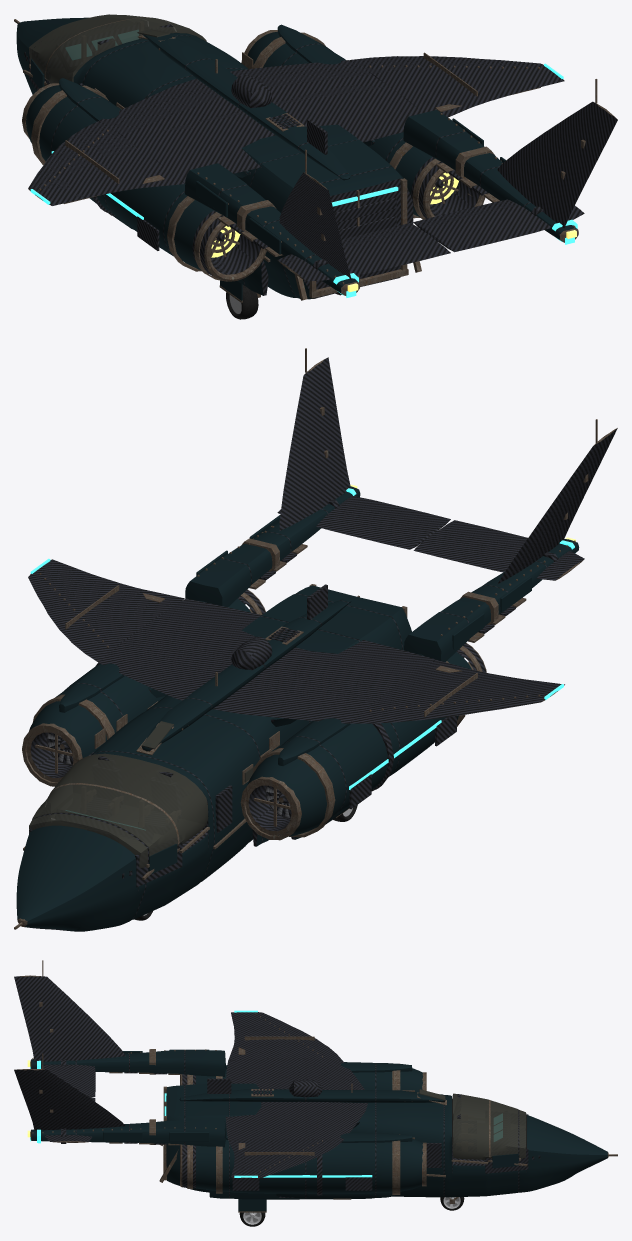
3 views of the same model, one above another, from view 1: azimuth 30°, elevation 25°; view 2: azimuth 150°, elevation 25°; view 3: azimuth 270°, elevation 25° (orthographic). The views are drawn at different scales.
Visible parts, largest first — view 1: kb7_core, kb7_tail_r, kb7_tail_l, kb7_wing_r, kb7_wing_l, kb7_gear_down; view 2: kb7_core, kb7_tail_r, kb7_wing_r, kb7_tail_l, kb7_wing_l; view 3: kb7_core, kb7_tail_l, kb7_tail_r, kb7_wing_l, kb7_wing_r, kb7_gear_down.
Part boxes in pixels (left/top/right/bottom): kb7_core: left=14, top=14, right=578, bottom=300; kb7_tail_r: left=413, top=79, right=617, bottom=252; kb7_tail_l: left=277, top=149, right=450, bottom=281; kb7_wing_r: left=349, top=52, right=564, bottom=117; kb7_wing_l: left=28, top=121, right=184, bottom=205; kb7_gear_down: left=219, top=280, right=341, bottom=319; kb7_core: left=14, top=484, right=579, bottom=931; kb7_tail_r: left=277, top=348, right=450, bottom=549; kb7_wing_r: left=28, top=558, right=184, bottom=662; kb7_tail_l: left=413, top=419, right=617, bottom=584; kb7_wing_l: left=350, top=659, right=564, bottom=723; kb7_core: left=27, top=1049, right=617, bottom=1199; kb7_tail_l: left=14, top=960, right=125, bottom=1097; kb7_tail_r: left=14, top=1053, right=125, bottom=1142; kb7_wing_l: left=228, top=1010, right=342, bottom=1060; kb7_wing_r: left=228, top=1139, right=341, bottom=1177; kb7_gear_down: left=238, top=1197, right=464, bottom=1226.
Size of the model in its own units: 5.9 by 3.36 by 9.07.
15 materials, 8 textured.
